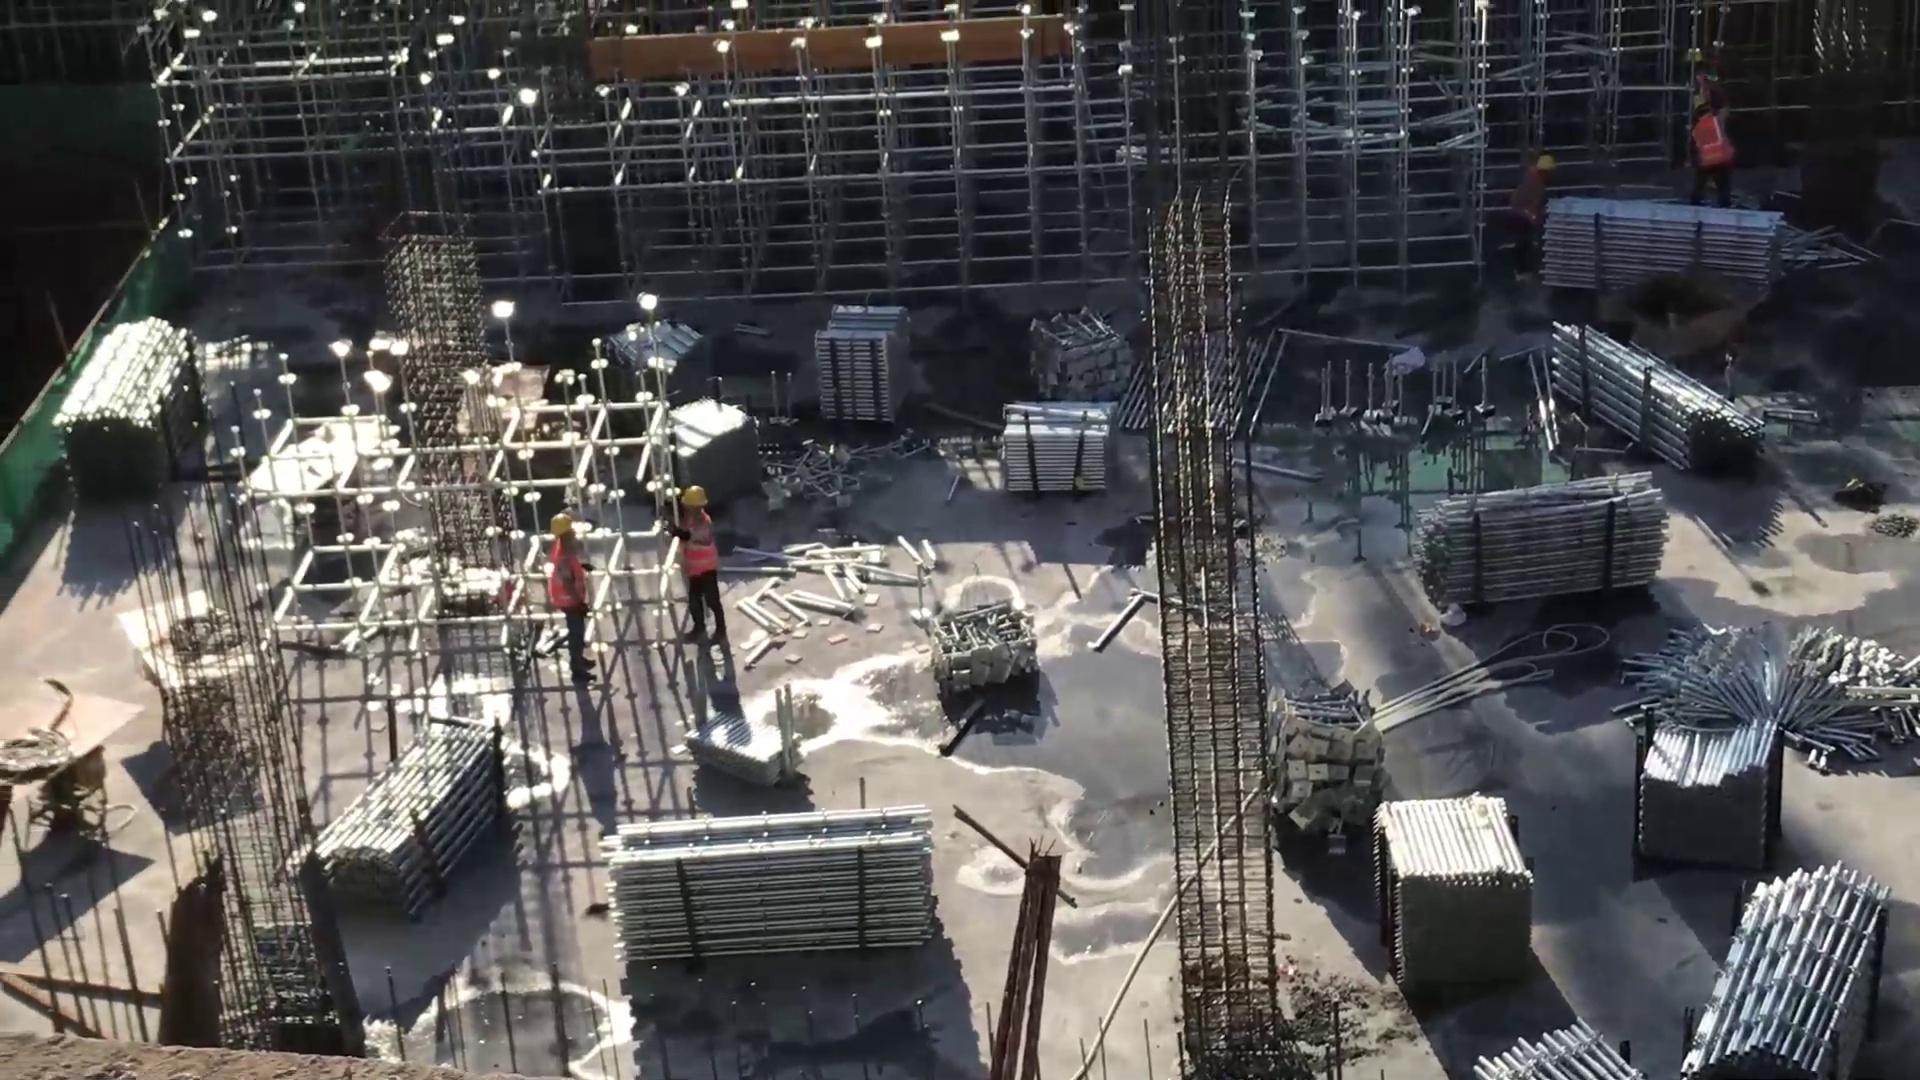helmet: (678, 486, 712, 508), (549, 516, 576, 536)
person: (538, 504, 600, 691), (669, 480, 727, 634), (1509, 141, 1565, 283), (1692, 91, 1744, 210)
scaffold: (605, 804, 936, 958), (1675, 870, 1895, 1080), (302, 712, 504, 906), (1550, 318, 1759, 472), (1416, 469, 1669, 592), (1374, 795, 1535, 988), (1544, 192, 1797, 303), (56, 319, 189, 480), (1644, 711, 1766, 859), (812, 296, 909, 427), (1465, 1016, 1647, 1080), (1008, 400, 1115, 489)
vest: (678, 516, 713, 584), (552, 550, 587, 608)
